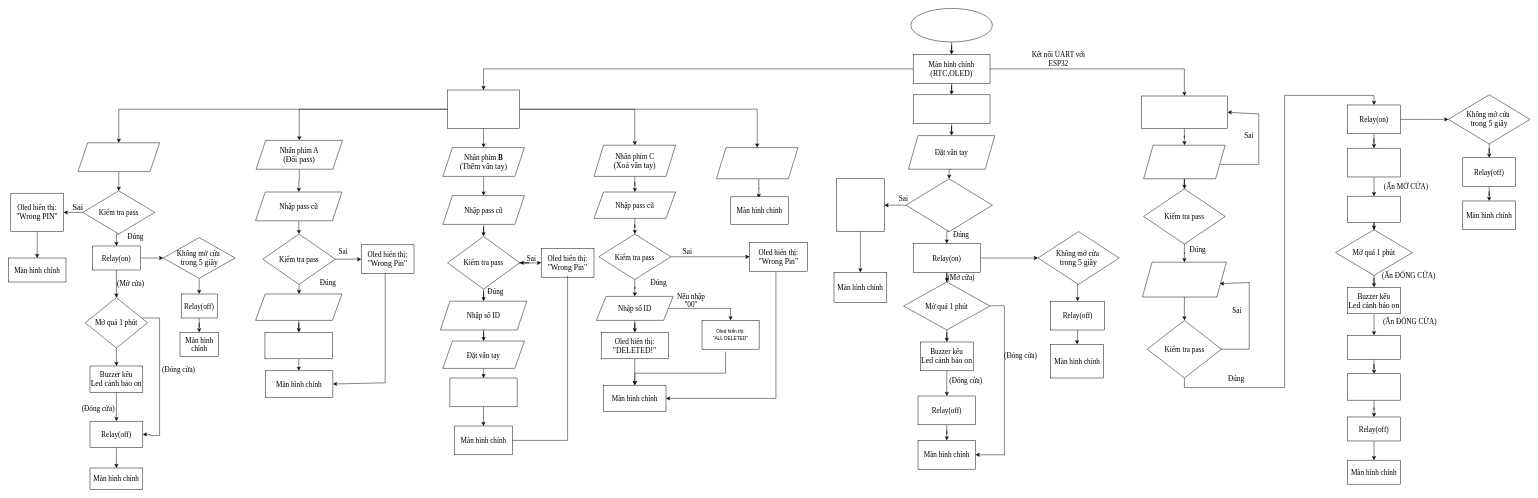
Image size: 1538x498. Some labels were removed from this diagram. The shapes that lost their labels are listed below. From the top down, each one's centre as x and y in pixels, then its label:
point (951, 25): Bắt đầu
point (483, 109): Bàn phím (4x4)
point (951, 109): Vân tay (AS608)
point (1184, 112): Web (ESP32 C3 Supermini)
point (119, 157): Nhập pass
point (757, 163): Nhấn phím D (Về màn hình chính)
point (1184, 162): Nhập pass đăng nhập web
point (1373, 162): Relay 2 mở
point (860, 205): Oled hiển thị: "Wrong ID"
point (949, 205): Kiểm tra vân tay
point (1373, 209): Servo (on) (xoay 90 độ)
point (1184, 279): Nhập pass MỞ KHOÁ
point (298, 307): Nhập pass mới
point (298, 345): Oled hiển thị: "Pass changed"
point (1373, 347): Servo (off) (xoay 0 độ)
point (483, 392): Oled hiển thị: "Enroll success"
point (1373, 386): Relay 2 đóng
